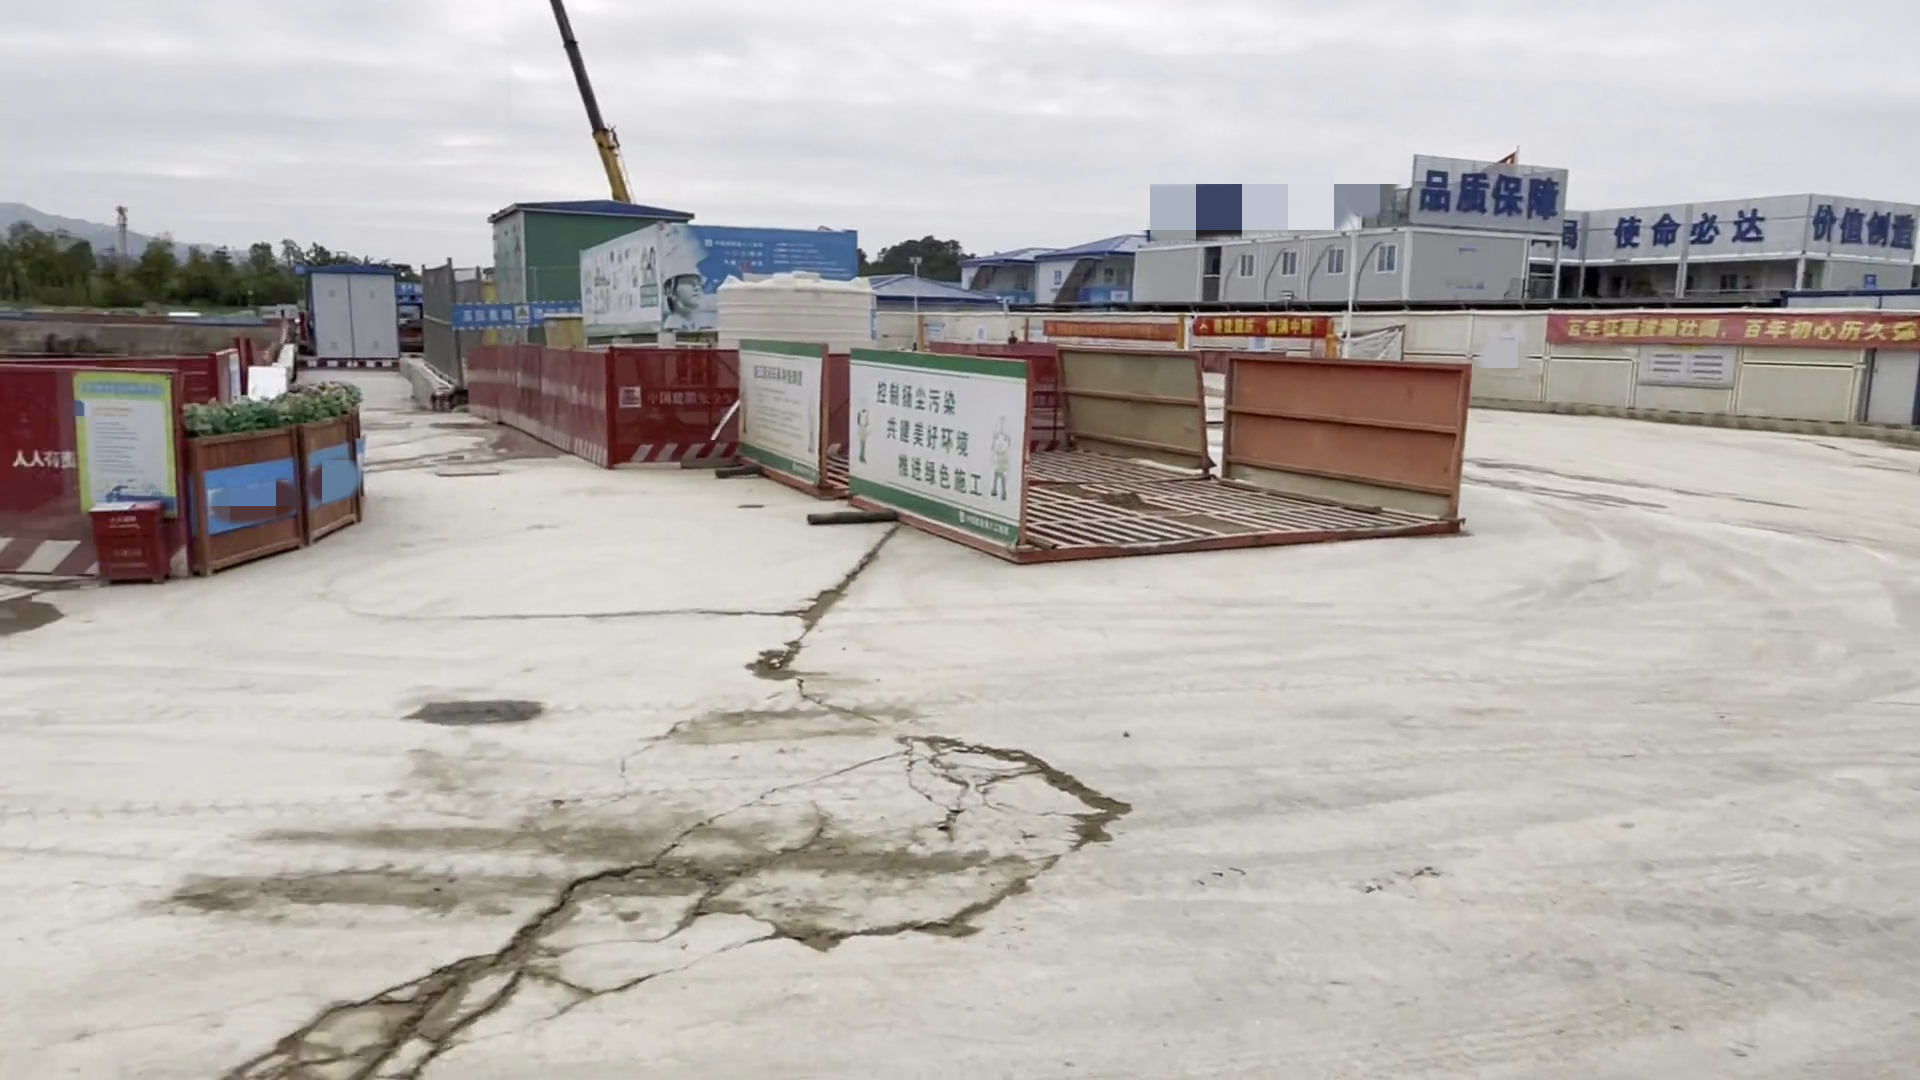fence: (462, 345, 607, 464), (607, 342, 738, 469)
slogan: (1543, 313, 1920, 352), (1189, 313, 1331, 338)
